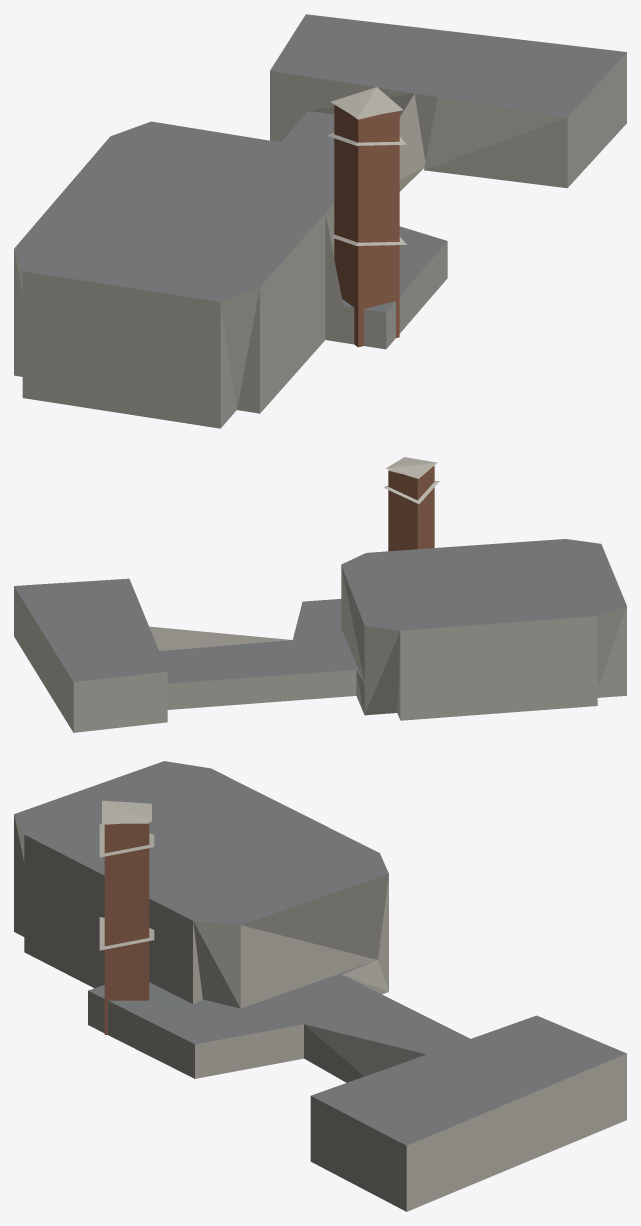
File: koningskerk.lod2.glb
3 views of the same model, one above another, from view 1: azimuth 30°, elevation 25°; view 2: azimuth 150°, elevation 25°; view 3: azimuth 270°, elevation 25° (orthographic). The views are drawn at different scales.
Parts seen in each view (by area): view 1: lod2; view 2: lod2; view 3: lod2.
Part boxes in pixels (x1,y1,x2,y2): lod2: (14,14,626,428); lod2: (14,457,626,732); lod2: (14,761,626,1211).
Size of the model in its own units: 67.57 by 20.3 by 52.55.
